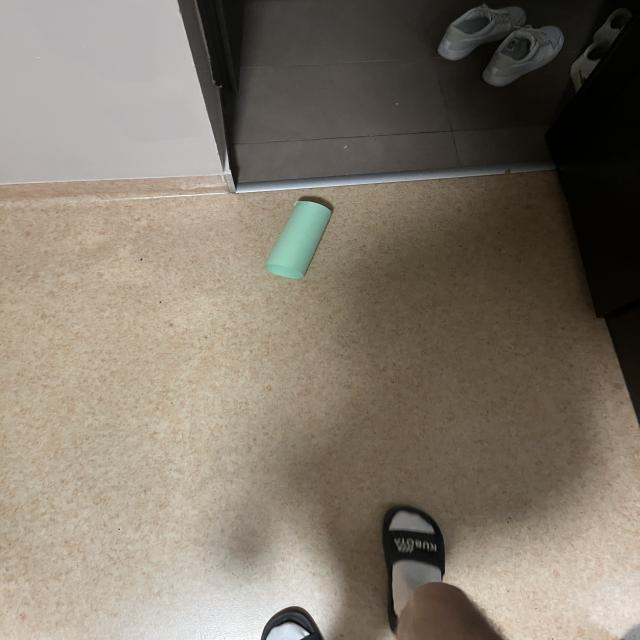meta: (265, 200, 331, 279)
